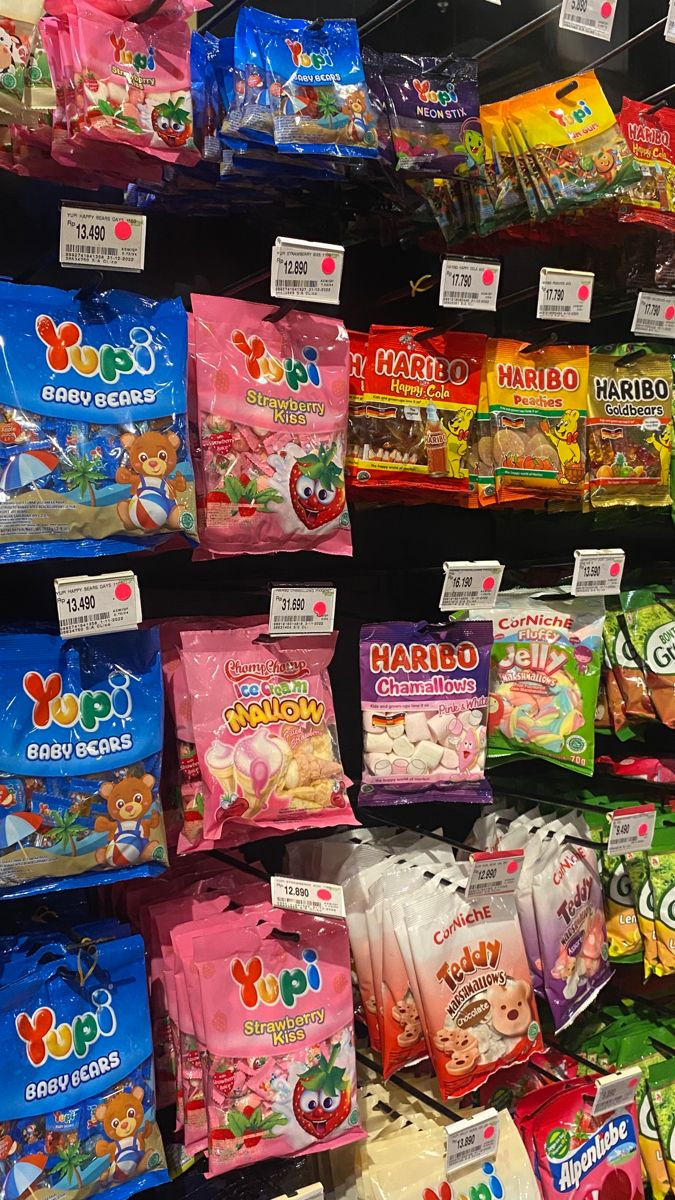Haribo Chamllows: (355, 615, 491, 782)
Yupi Babby Bears: (1, 635, 171, 847), (1, 951, 170, 1163)
Yupi Strawberry: (189, 297, 350, 508), (188, 922, 349, 1133)
